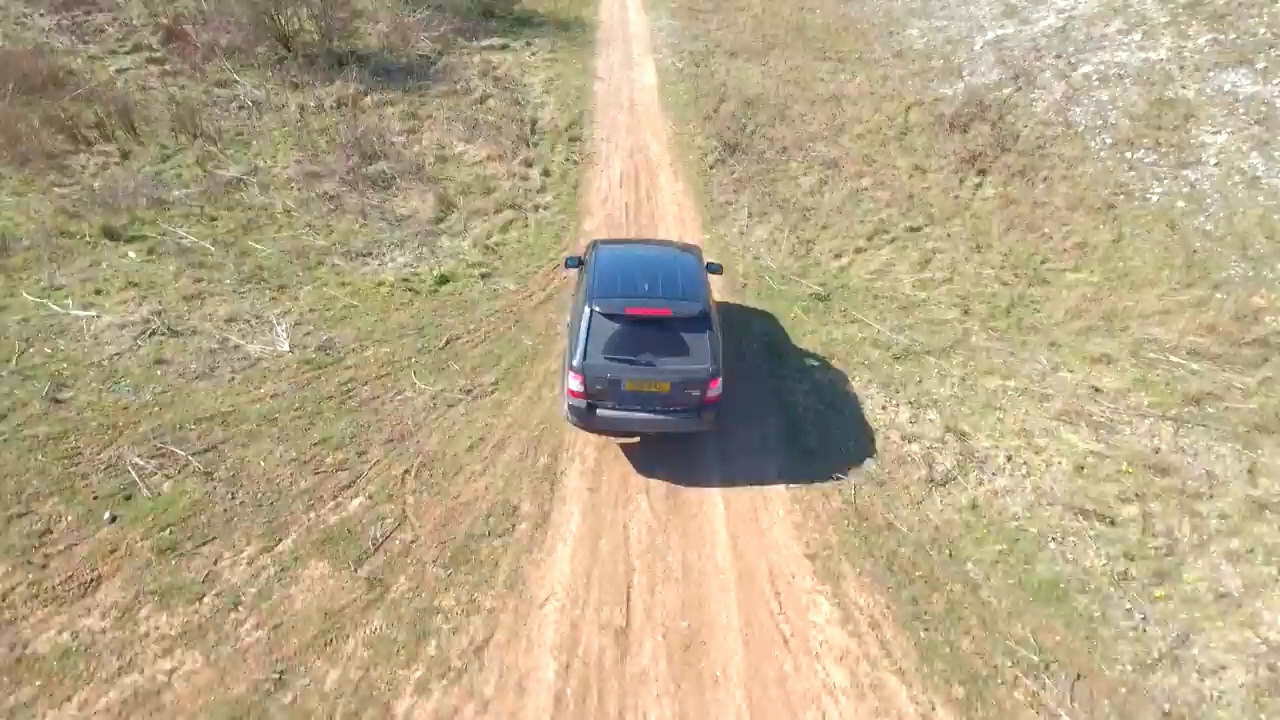araba: (558, 232, 728, 436)
